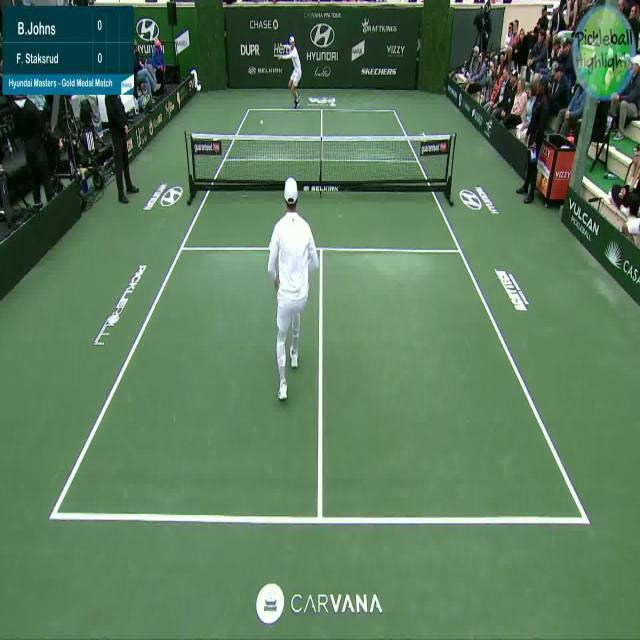ball: (259, 116, 264, 128)
